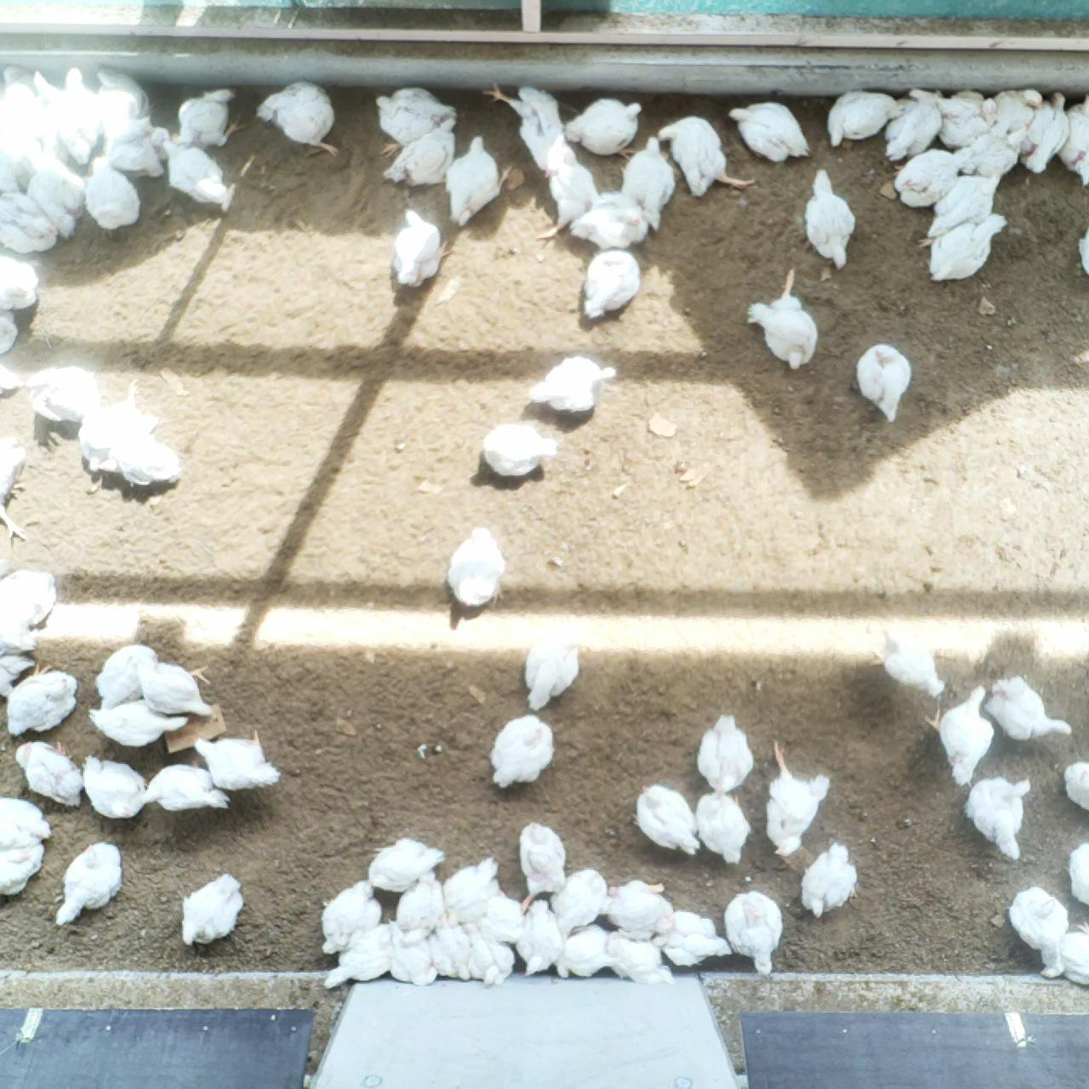chicken: (761, 736, 834, 857), (655, 115, 757, 195), (76, 378, 158, 473), (920, 682, 991, 788), (744, 268, 819, 368), (483, 78, 567, 166), (255, 75, 341, 158), (538, 142, 603, 246), (920, 209, 1008, 282), (369, 89, 460, 158), (985, 671, 1072, 743), (52, 840, 123, 928), (963, 775, 1033, 864), (920, 169, 1004, 243), (1007, 884, 1071, 981), (44, 68, 108, 164), (189, 726, 282, 792), (868, 618, 947, 694), (620, 134, 678, 236), (447, 134, 512, 225), (3, 664, 81, 739), (381, 117, 460, 189), (174, 870, 245, 950), (803, 166, 857, 271), (523, 355, 617, 415), (631, 779, 703, 856), (689, 784, 756, 865), (522, 625, 586, 709), (726, 100, 810, 164), (892, 147, 975, 211), (388, 205, 452, 287), (445, 525, 506, 611), (0, 562, 57, 654), (88, 695, 188, 747), (134, 655, 215, 719), (14, 734, 85, 807), (319, 921, 393, 991), (488, 711, 555, 788), (562, 93, 643, 156), (24, 155, 84, 240), (82, 153, 142, 237), (725, 890, 784, 975), (697, 711, 756, 795), (651, 908, 733, 968), (598, 879, 676, 942), (823, 88, 904, 148), (141, 762, 234, 814), (572, 190, 651, 251), (321, 878, 385, 953), (452, 914, 517, 987), (517, 820, 568, 913), (101, 432, 182, 490), (77, 756, 147, 822), (854, 344, 913, 422), (173, 86, 243, 151), (95, 67, 154, 144), (479, 420, 557, 478), (800, 843, 861, 916), (28, 364, 103, 423), (366, 838, 445, 894), (93, 644, 164, 706), (161, 139, 228, 204), (955, 126, 1032, 181), (608, 924, 673, 989), (375, 921, 439, 987), (1022, 89, 1070, 175), (886, 88, 942, 161), (581, 250, 638, 321), (439, 856, 497, 924), (515, 896, 563, 977), (552, 868, 606, 938), (557, 922, 620, 981), (388, 869, 446, 933), (0, 191, 58, 252), (99, 126, 167, 178), (420, 914, 471, 983), (0, 790, 54, 855), (938, 99, 1004, 150), (1042, 918, 1089, 987), (0, 73, 48, 134), (0, 432, 26, 543), (0, 840, 46, 902), (1057, 89, 1089, 178), (908, 86, 987, 122), (985, 88, 1044, 134), (477, 890, 522, 949), (7, 129, 45, 197), (0, 250, 40, 309), (1059, 838, 1089, 909), (0, 644, 35, 701), (1062, 759, 1089, 814), (0, 136, 18, 207), (0, 305, 23, 351), (1072, 225, 1089, 280), (0, 359, 20, 397)
